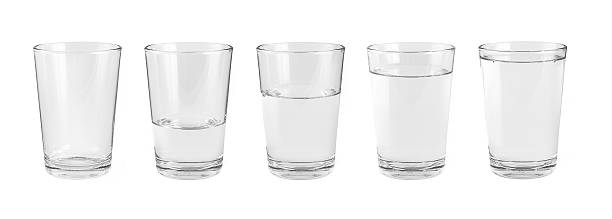glass of water: (29, 42, 122, 180), (138, 44, 235, 174), (366, 45, 457, 172), (257, 44, 339, 183), (479, 43, 564, 175)
